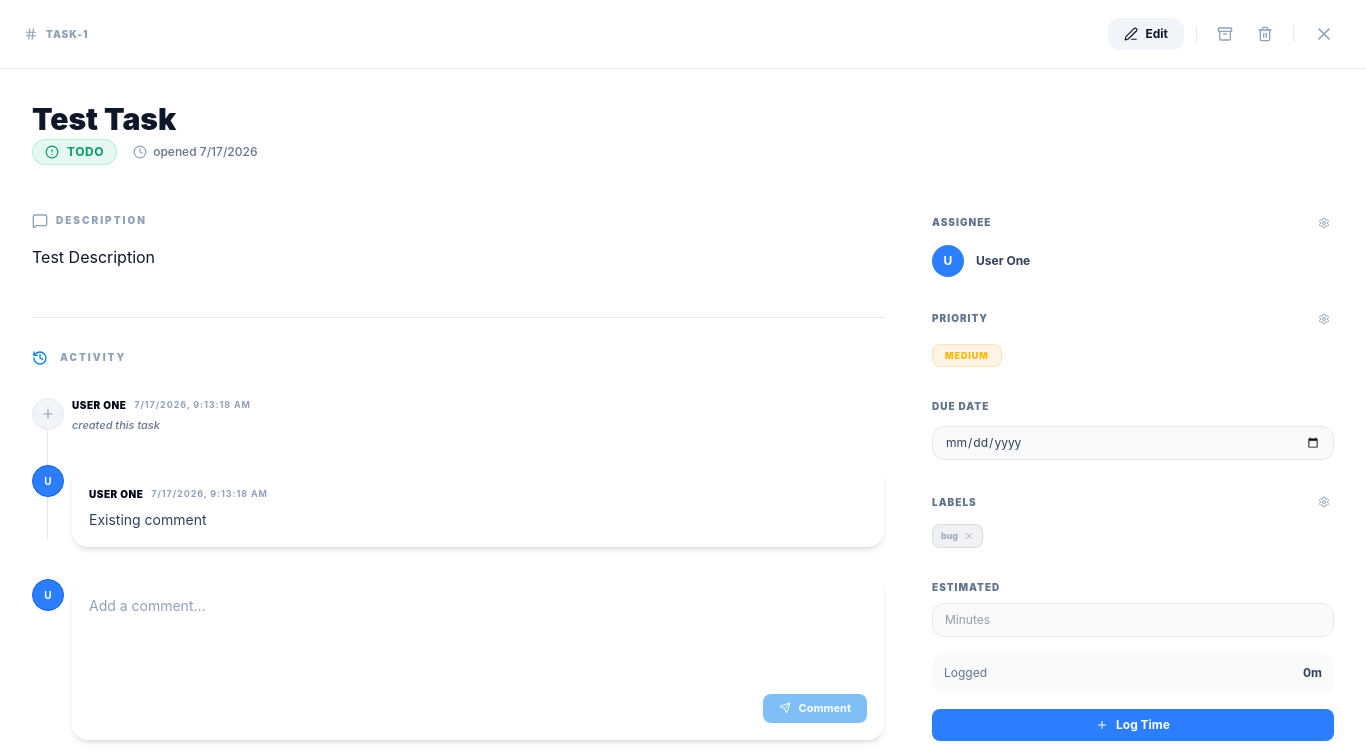
it: TaskViewer › Title Inline Editing › should not save empty title
// Click to enter edit mode
Click the heading "Test Task" at (104, 119), box [32, 101, 176, 137]
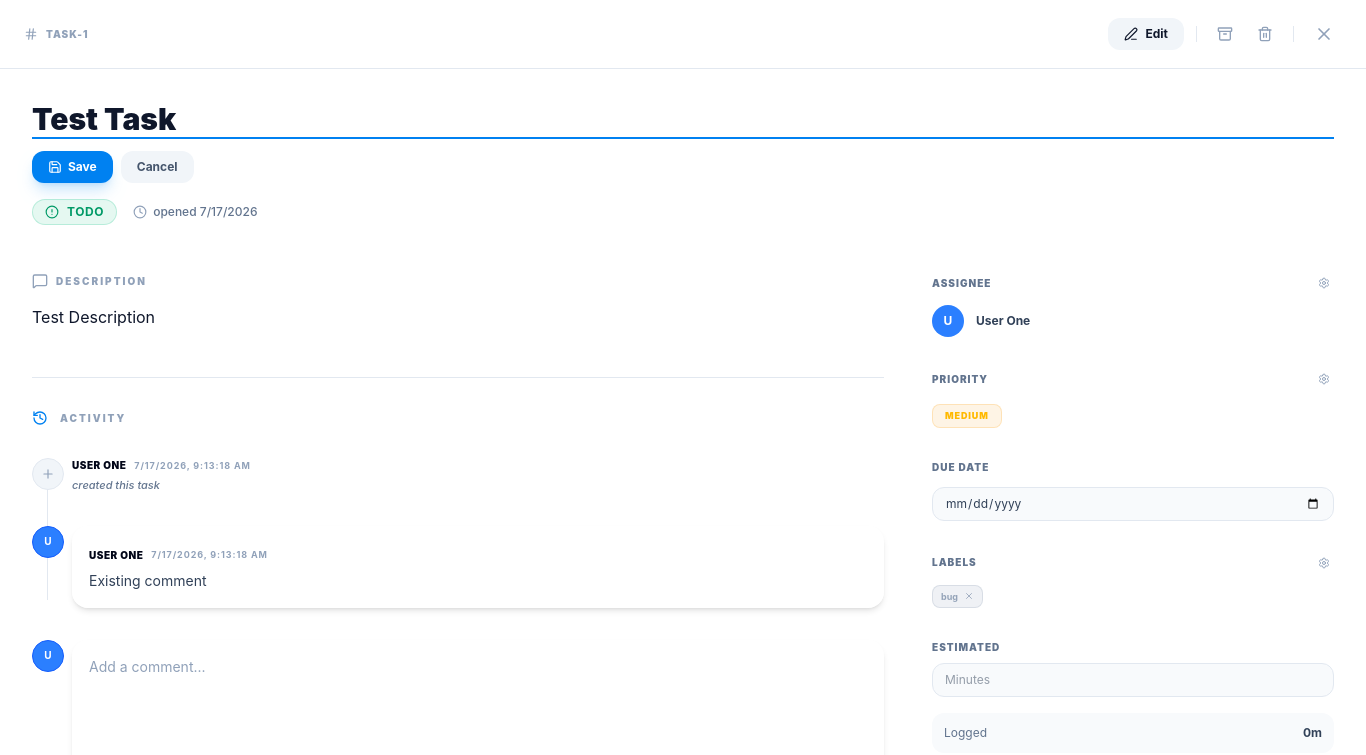
// Clear the title - use first textbox (the title input)
Clear the field at (683, 120), box [32, 101, 1334, 139]
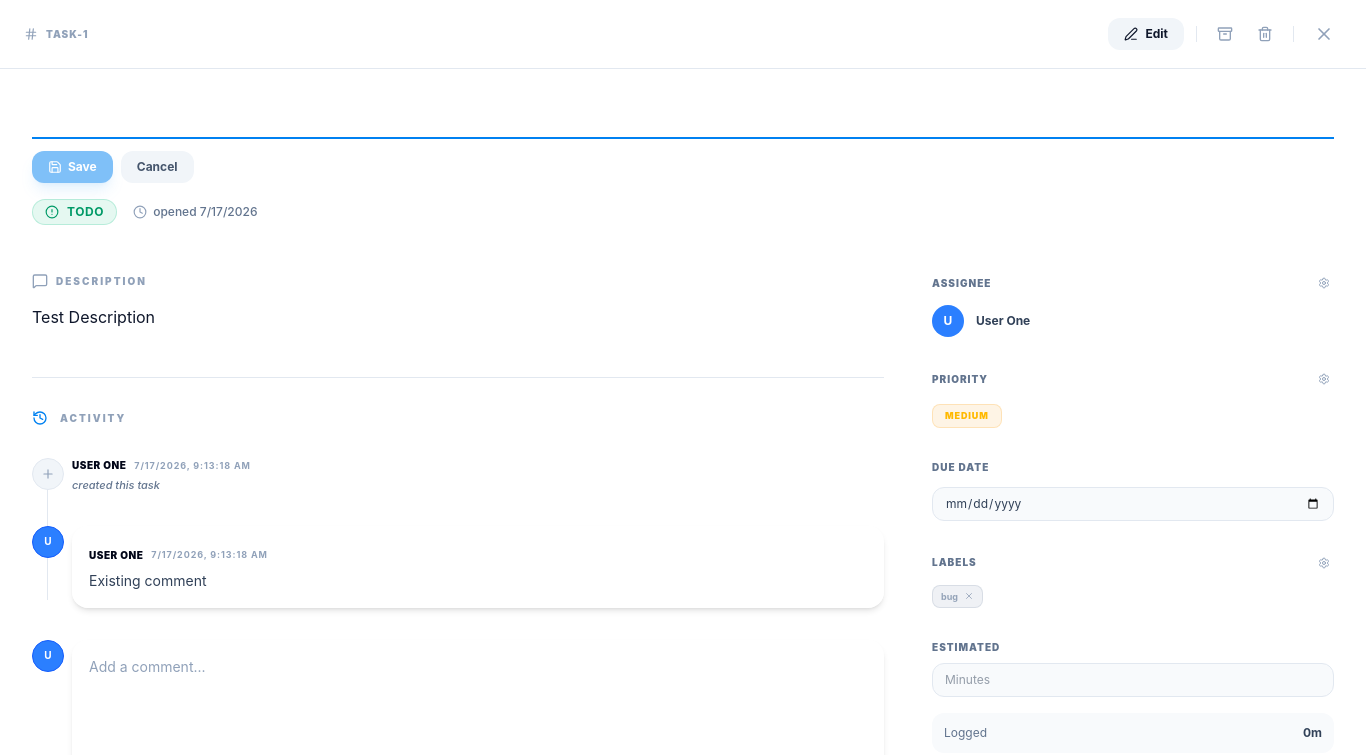
Expected: the button "Save" is disabled, [32, 151, 113, 183]
